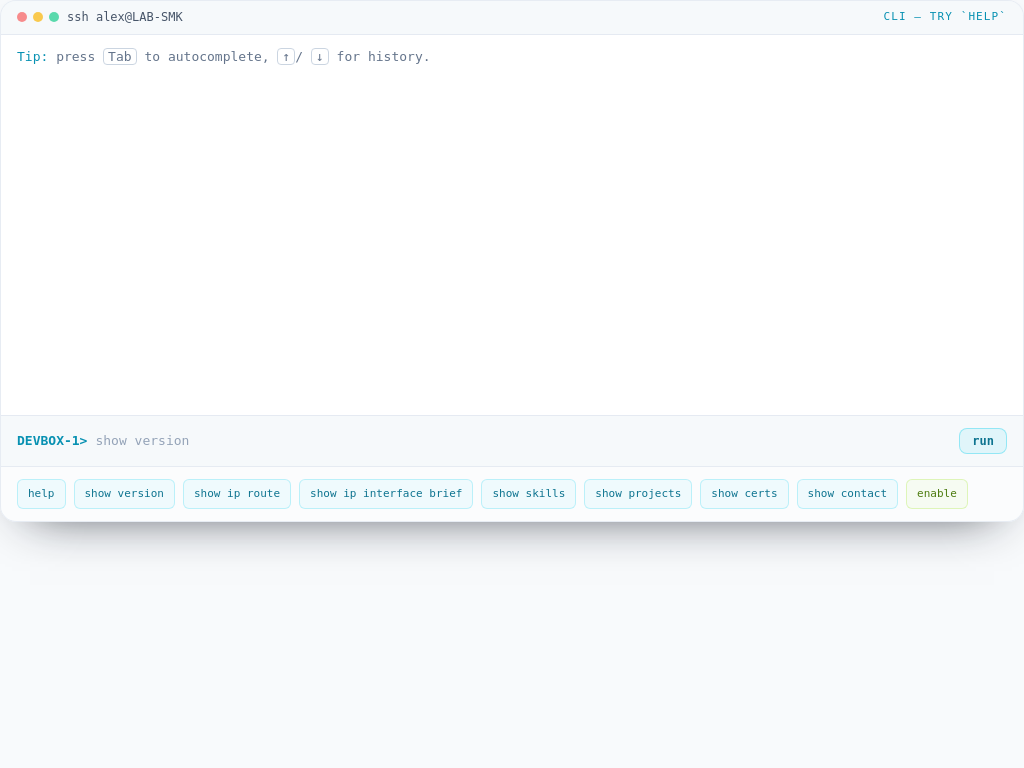
Test case: Terminal › shows % Invalid input detected for an unknown command
Type "teleport to the moon" into the field named "terminal command input" at (523, 441), box top-left (96, 431), bottom-right (951, 450)
Then press Enter
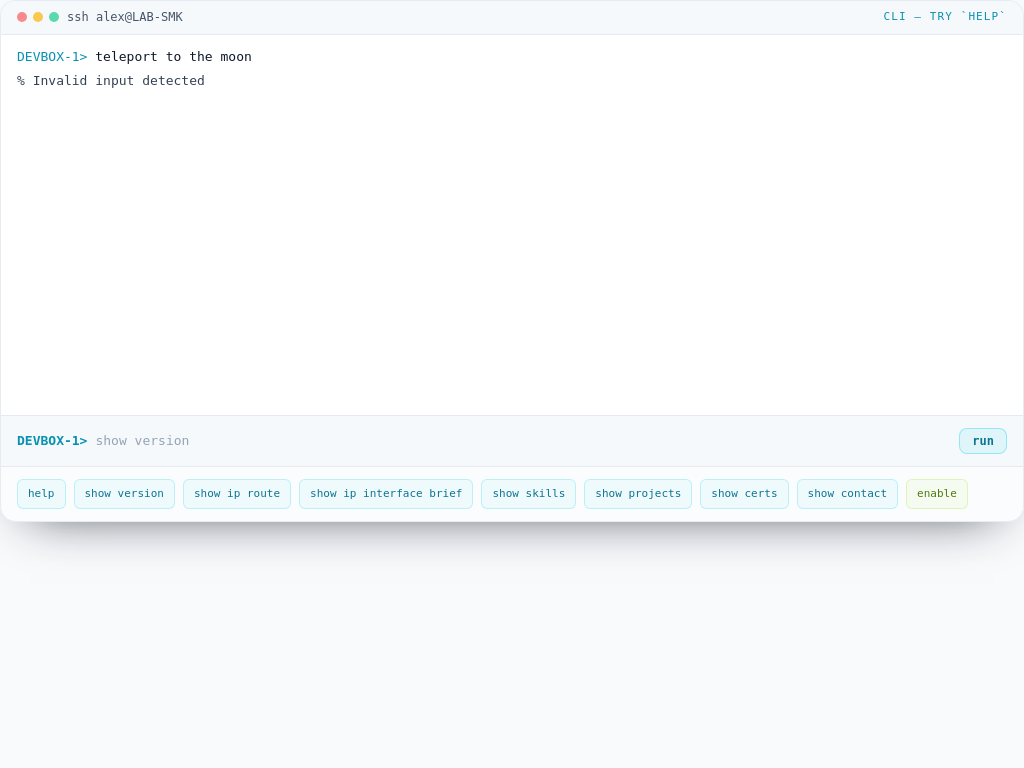
Expected: the text "% Invalid input detected" is shown, top-left (17, 73), bottom-right (205, 88)
